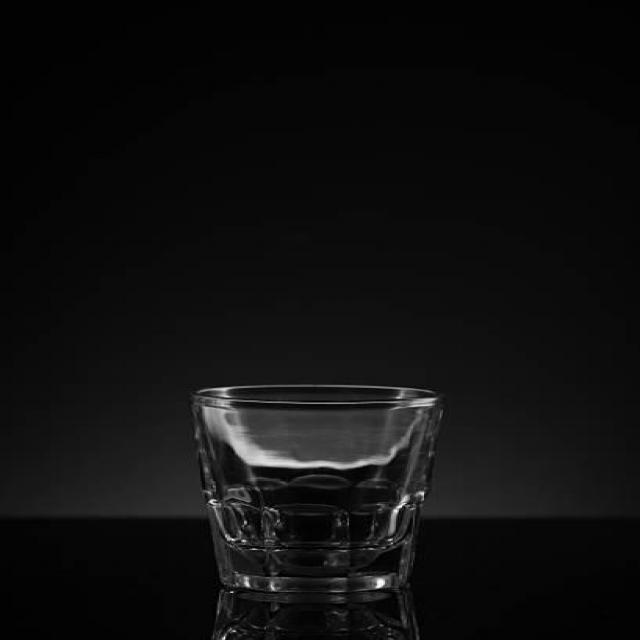glass-normal: (186, 382, 448, 595)
